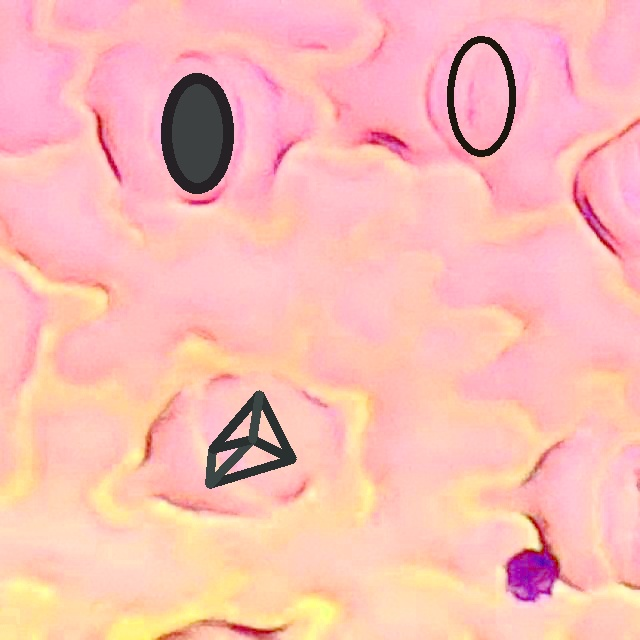close: (160, 73, 233, 193), (446, 35, 516, 157), (208, 391, 295, 487)
